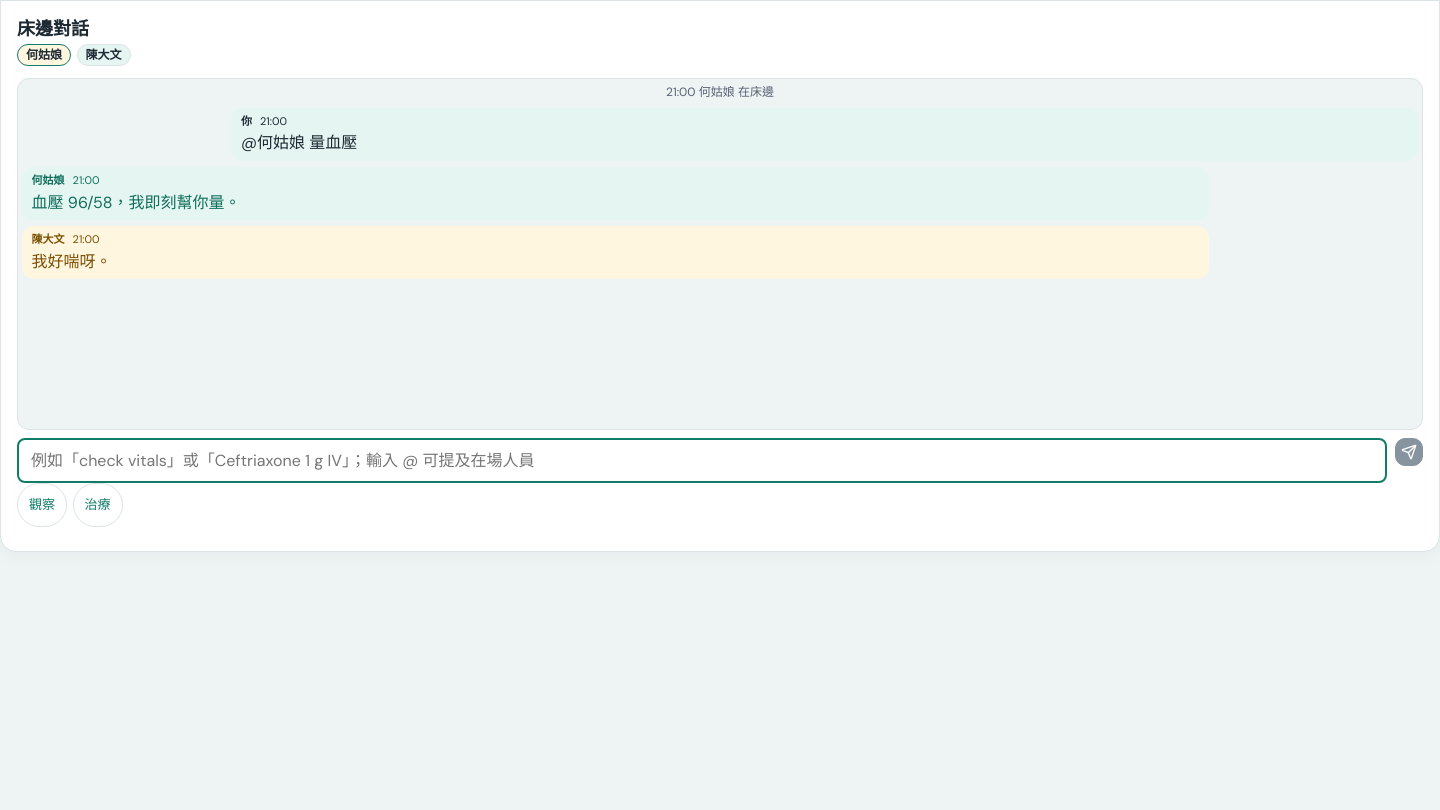
Test: 治療同觀察選單 › 治療剩下 Oxygen therapy、Catheters and drains 同 Drugs
Click the button "治療" at (98, 505), box [73,483,123,527]
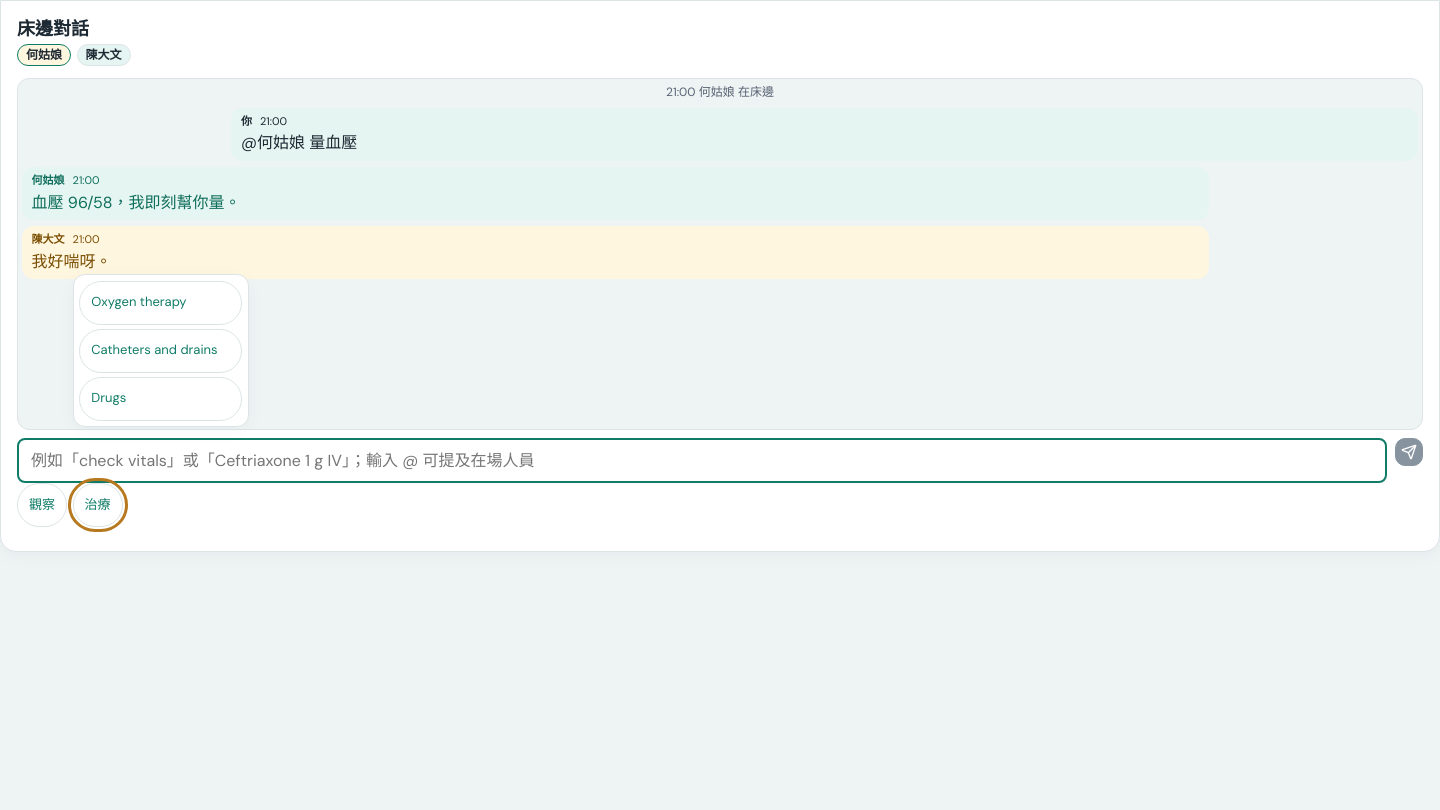
expect the menu items read "Oxygen therapy", "Catheters and drains", "Drugs", in this order: met, box [79,280,242,324]; [79,328,242,372]; [79,376,242,420]
